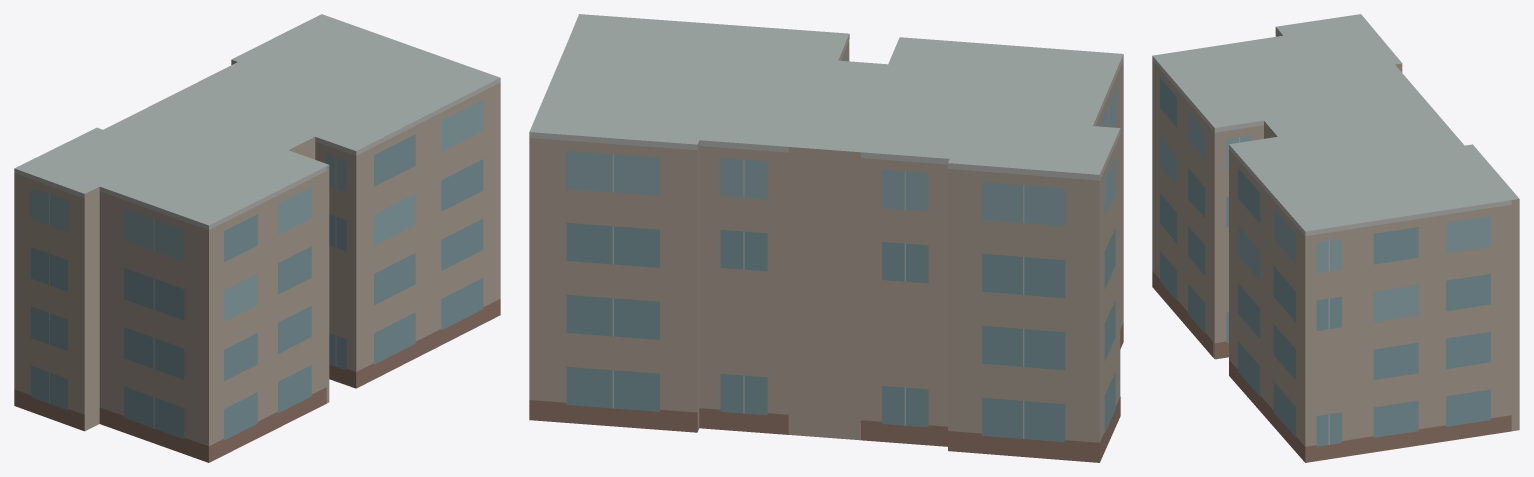
The model's file is survey-upis-32858135.glb.
3 views of the same model, side by side, from view 1: azimuth 30°, elevation 25°; view 2: azimuth 150°, elevation 25°; view 3: azimuth 270°, elevation 25° (orthographic). The views are drawn at different scales.
Parts seen in each view (by area): view 1: survey-upis-32858135.tmp; view 2: survey-upis-32858135.tmp; view 3: survey-upis-32858135.tmp.
Boxes of the visible parts, x1=… form: survey-upis-32858135.tmp: x1=14, y1=14, x2=500, y2=462; survey-upis-32858135.tmp: x1=529, y1=14, x2=1123, y2=462; survey-upis-32858135.tmp: x1=1152, y1=14, x2=1519, y2=462.
Bounding box in the file's own units: 24.63 × 12.2 × 17.57.
